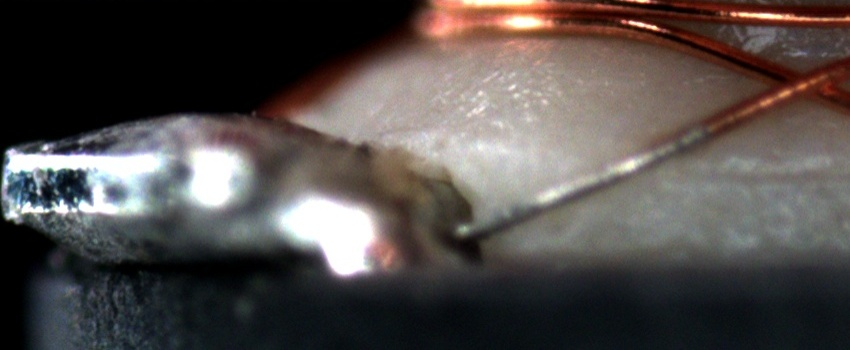CL: (750, 57, 840, 109)
DL: (678, 145, 850, 204)
TS: (453, 123, 708, 241)
